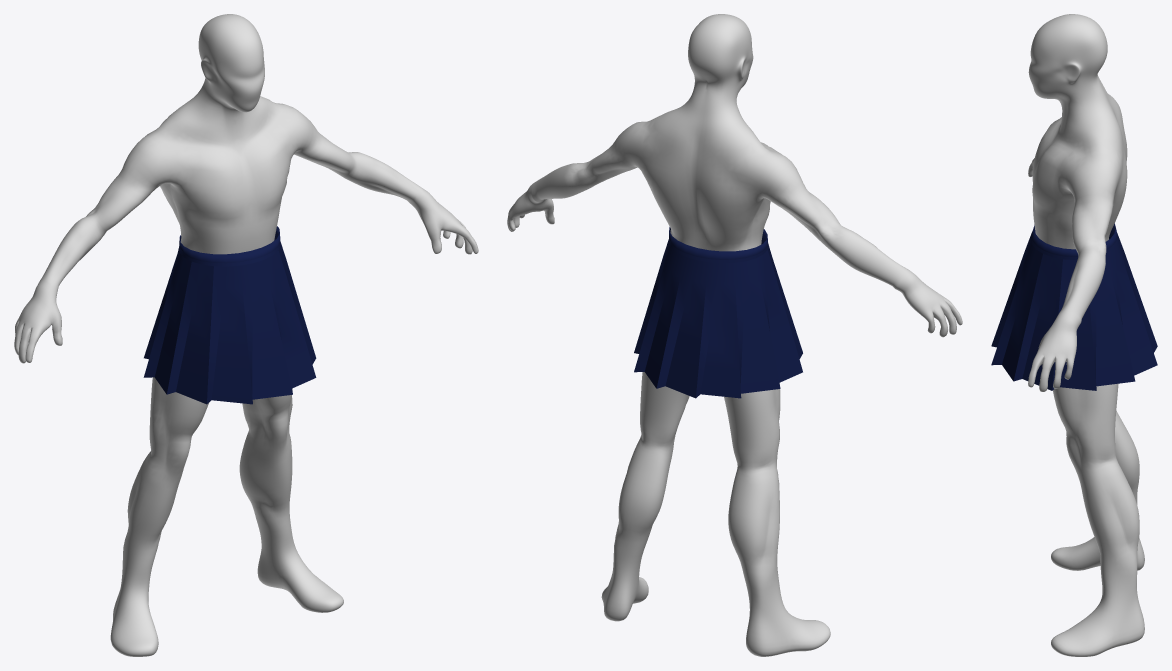
The model's file is skirt.fbx.
3 views of the same model, side by side, from view 1: azimuth 30°, elevation 25°; view 2: azimuth 150°, elevation 25°; view 3: azimuth 270°, elevation 25° (orthographic). The views are drawn at different scales.
Visible parts, largest first — view 1: lowman_shoes, Cylinder; view 2: lowman_shoes, Cylinder; view 3: lowman_shoes, Cylinder.
Boxes of the visible parts, box(x1,y1,x2,y2) form: lowman_shoes: box(14, 14, 478, 656); Cylinder: box(143, 226, 316, 404); lowman_shoes: box(507, 14, 962, 656); Cylinder: box(634, 227, 802, 398); lowman_shoes: box(1028, 14, 1144, 656); Cylinder: box(991, 223, 1157, 390).
Size of the model in its own units: 462 by 598 by 153.
